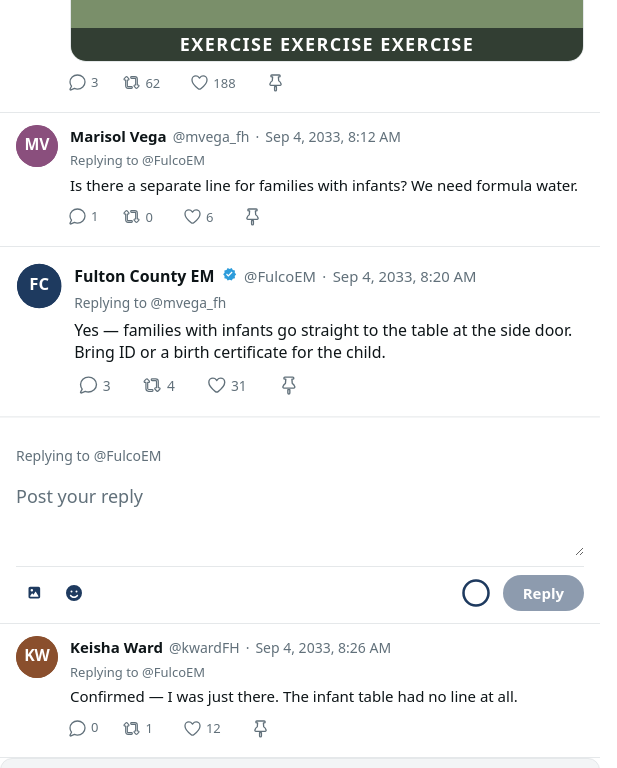
Scenario: ThreadView over the v2 fixture thread › keeps like wiring live on a thread card (relocated into PostActions, one event)
This screenshot has width=617, height=768.
(page scrolled)
Click the button named "Like, 31" at x=228, y=385, box [202,371,253,399]
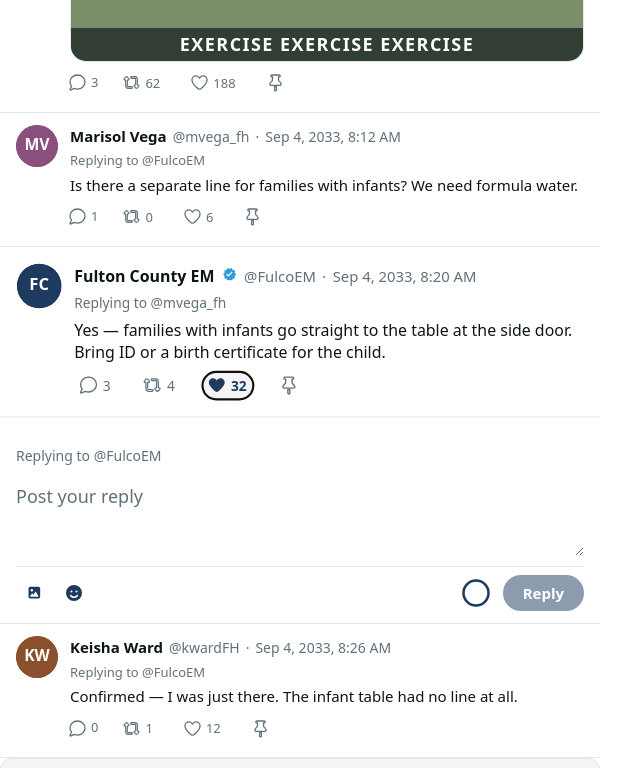
Expected: the button named "Like, 32, liked" is shown, [202,371,253,399]
